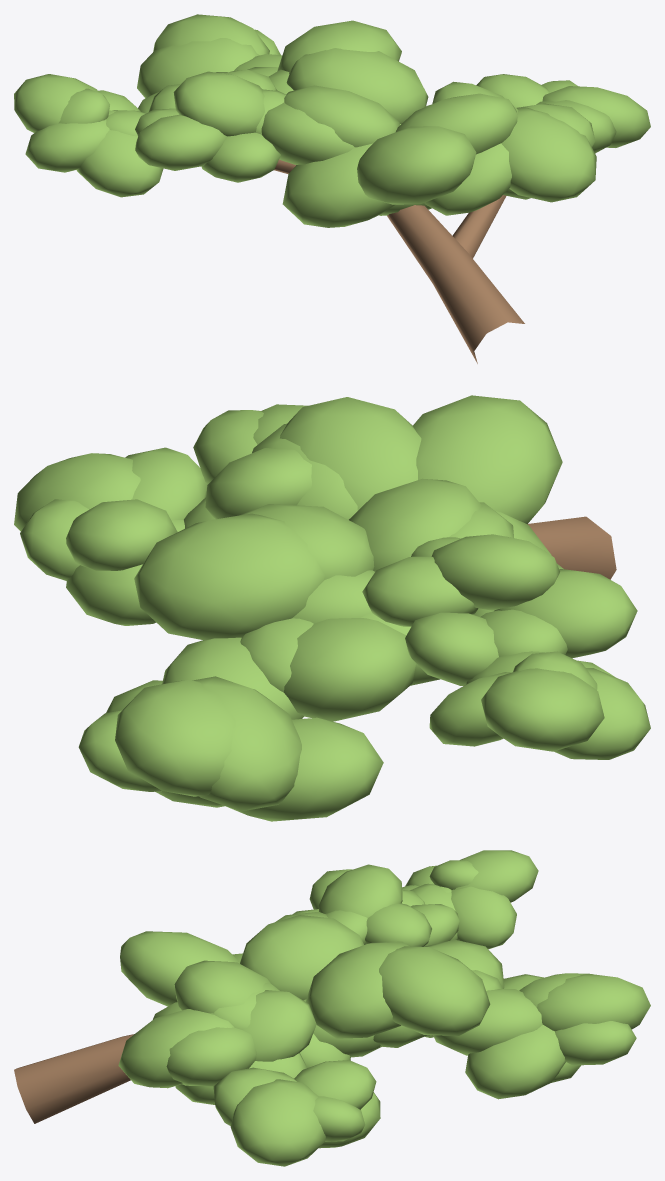
The model's file is canopy_bough_a.glb.
The picture shows the model from 3 angles, top to bottom: view 1: azimuth 30°, elevation 25°; view 2: azimuth 150°, elevation 25°; view 3: azimuth 270°, elevation 25°; orthographic projection. The views are drawn at different scales.
Parts seen in each view (by area): view 1: SM_Forest_CanopyBough_A; view 2: SM_Forest_CanopyBough_A; view 3: SM_Forest_CanopyBough_A.
Part boxes in pixels (x1,y1,x2,y2): SM_Forest_CanopyBough_A: [14, 14, 650, 363]; SM_Forest_CanopyBough_A: [14, 395, 650, 821]; SM_Forest_CanopyBough_A: [14, 850, 650, 1166].
Bounding box in the file's own units: 9.21 × 3.27 × 9.73.
